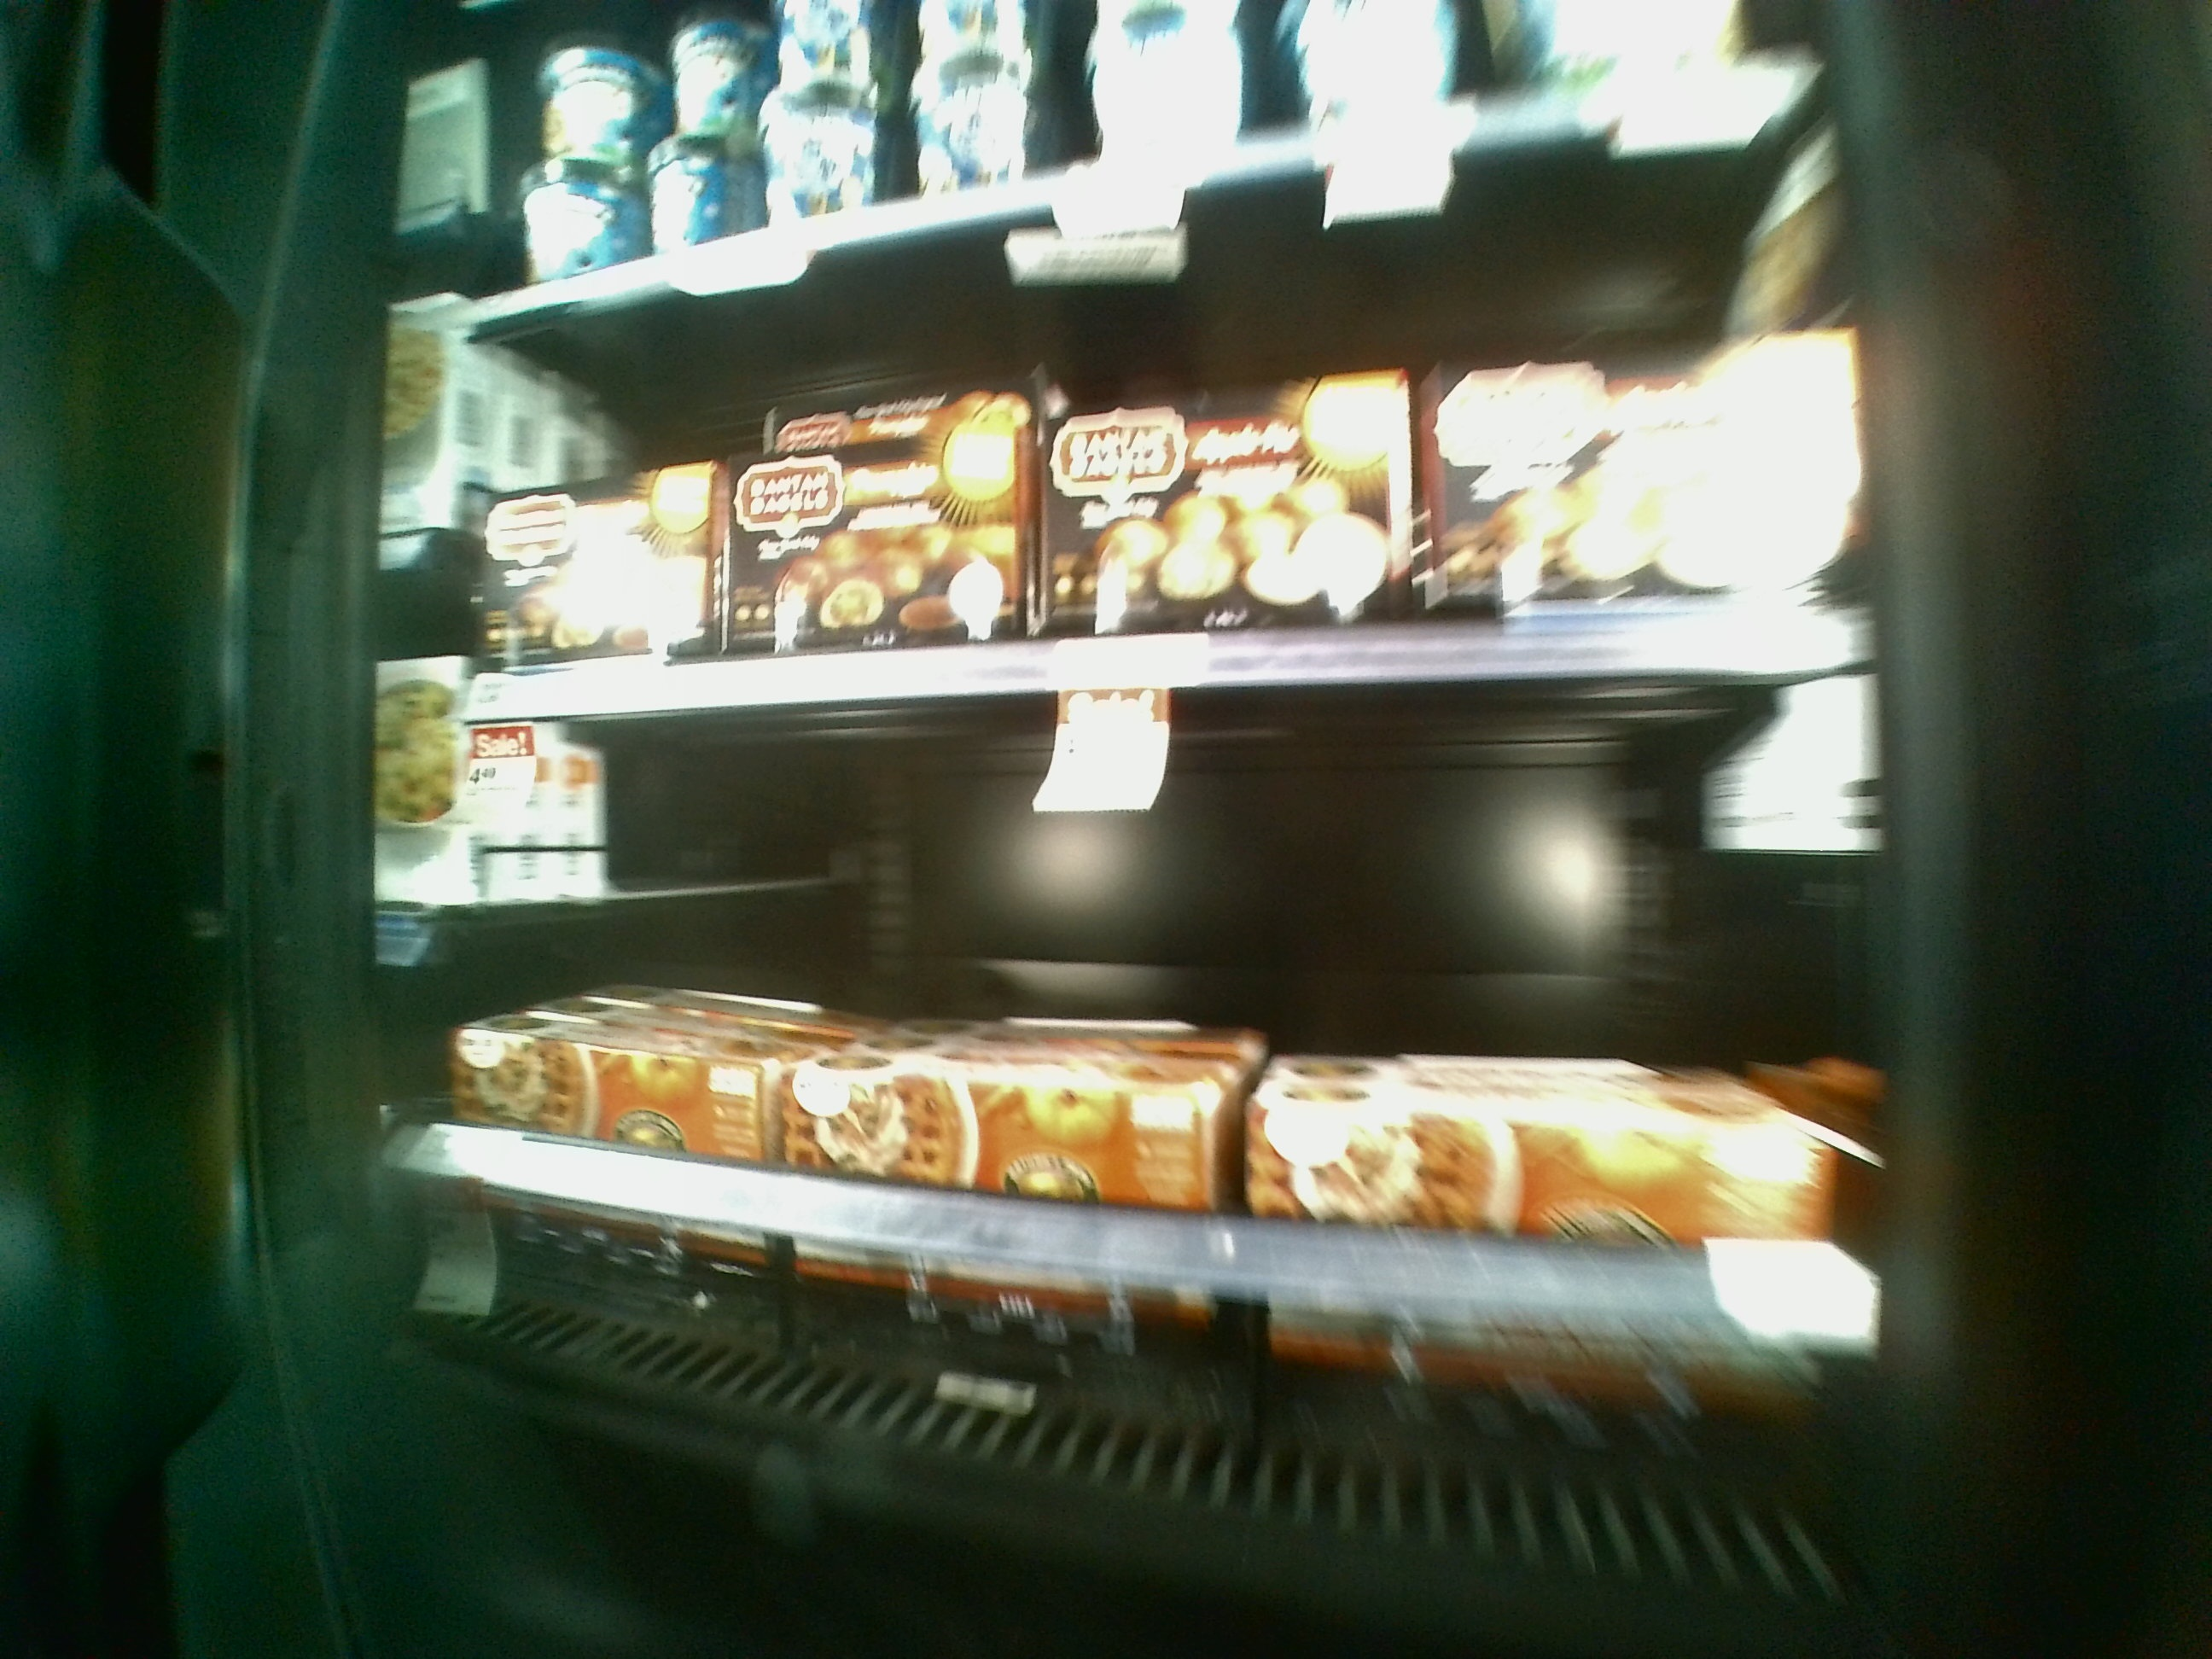shelf: (451, 636, 1878, 1588), (451, 225, 1825, 660)
